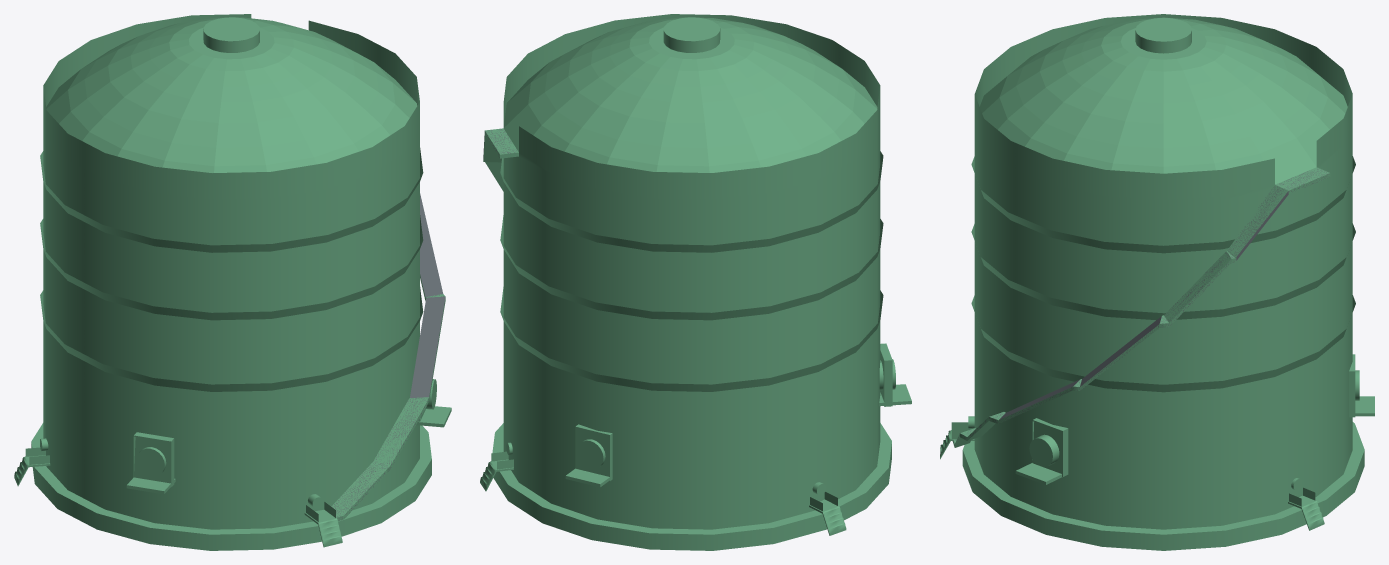
File: tank3.dae
3 renders of one model, left to right at view 1: azimuth 30°, elevation 25°; view 2: azimuth 150°, elevation 25°; view 3: azimuth 270°, elevation 25°, orthographic.
Parts seen in each view (by area): view 1: pasted__pasted__pasted__polySurface9_pasted__pasted__group12; view 2: pasted__pasted__pasted__polySurface9_pasted__pasted__group12; view 3: pasted__pasted__pasted__polySurface9_pasted__pasted__group12.
Boxes of the visible parts, box(x1,y1,x2,y2) form: pasted__pasted__pasted__polySurface9_pasted__pasted__group12: box(14, 14, 451, 550); pasted__pasted__pasted__polySurface9_pasted__pasted__group12: box(480, 14, 911, 550); pasted__pasted__pasted__polySurface9_pasted__pasted__group12: box(940, 14, 1374, 550).
Bounding box in the file's own units: 1.18 × 1.33 × 1.21.
